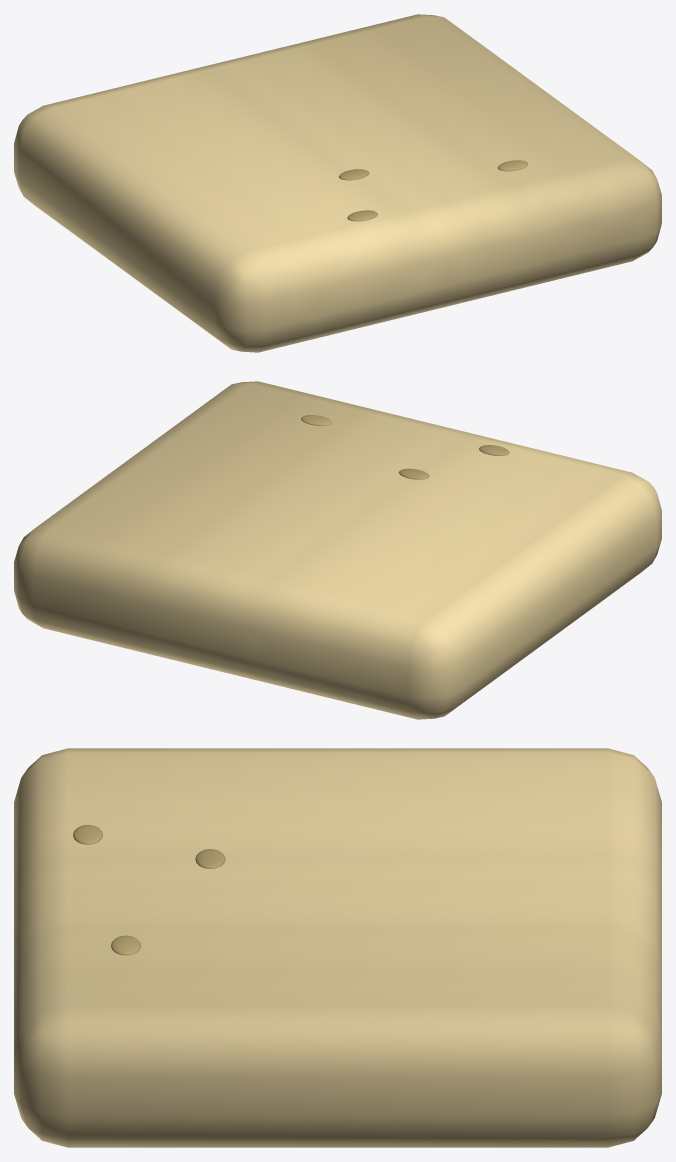
The model's file is Tile_3.fbx.
3 renders of one model, top to bottom at view 1: azimuth 30°, elevation 25°; view 2: azimuth 150°, elevation 25°; view 3: azimuth 270°, elevation 25°, orthographic. The views are drawn at different scales.
Parts seen in each view (by area): view 1: Tile_3; view 2: Tile_3; view 3: Tile_3.
Boxes of the visible parts, left/top/right/bottom form: Tile_3: left=14, top=14, right=661, bottom=352; Tile_3: left=14, top=381, right=661, bottom=719; Tile_3: left=14, top=748, right=661, bottom=1147.
Size of the model in its own units: 98 by 21.5 by 90.
Materials: 1 (1 with a texture image).
